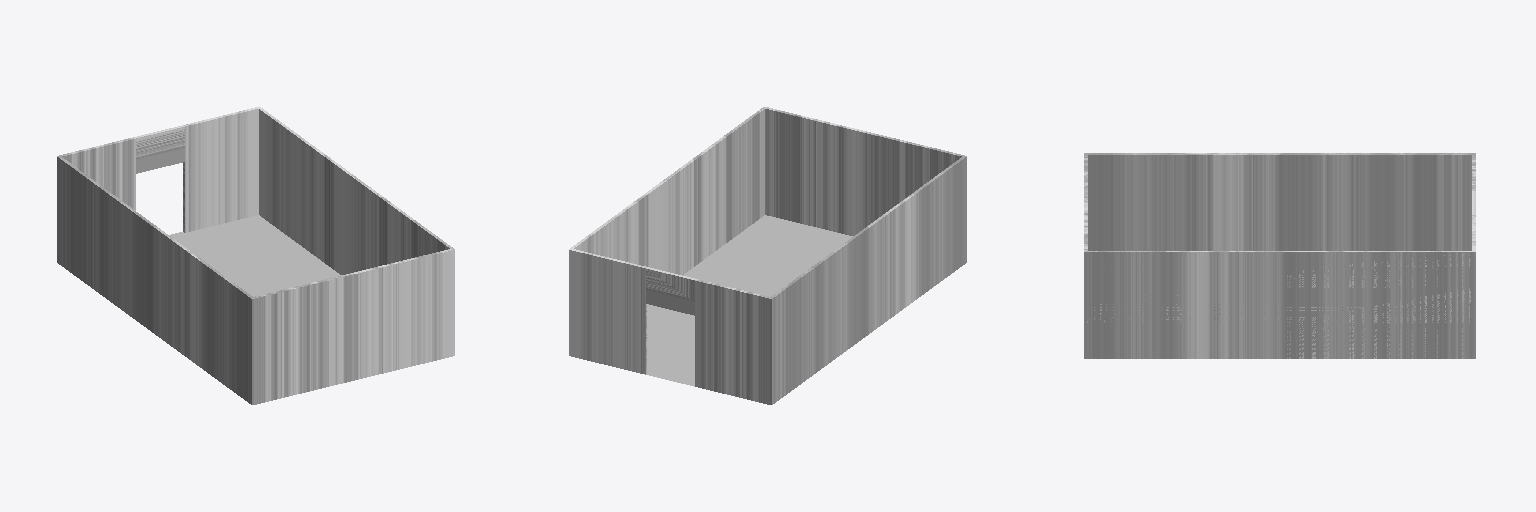
3 renders of one model, left to right at view 1: azimuth 30°, elevation 25°; view 2: azimuth 150°, elevation 25°; view 3: azimuth 270°, elevation 25°, orthographic.
Parts seen in each view (by area): view 1: Room_Model_Plane.001, Plane; view 2: Room_Model_Plane.001, Plane; view 3: Room_Model_Plane.001.
Boxes of the visible parts, <box> form: Room_Model_Plane.001: <box>57,107,454,404</box>; Plane: <box>169,215,340,296</box>; Room_Model_Plane.001: <box>569,107,966,404</box>; Plane: <box>646,215,852,386</box>; Room_Model_Plane.001: <box>1084,153,1475,358</box>.
Size of the model in its own units: 6 by 3 by 10.
Materials: 2 (1 with a texture image).